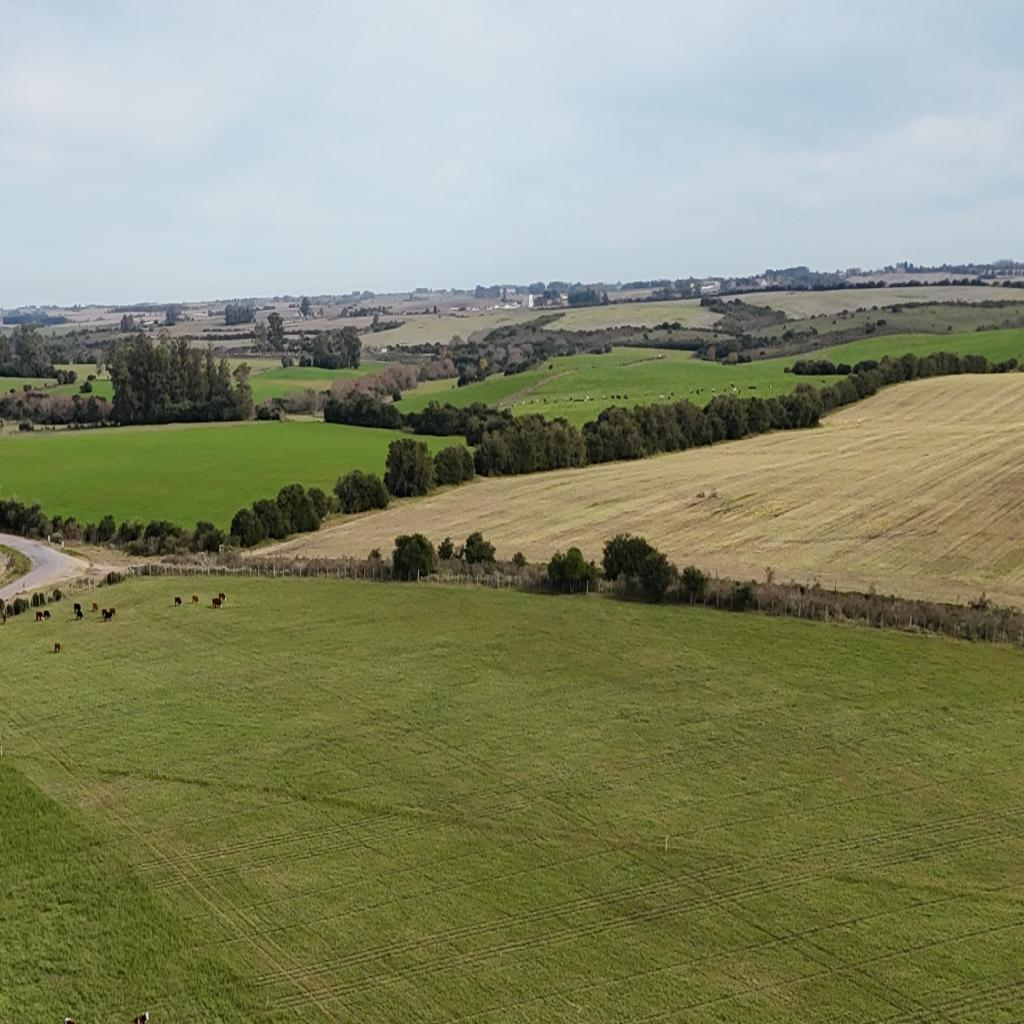cow: (131, 1010, 150, 1024), (102, 608, 114, 622), (74, 603, 83, 621), (212, 597, 223, 610), (62, 1016, 74, 1024), (13, 610, 20, 623), (36, 611, 44, 622), (54, 642, 61, 654), (173, 596, 181, 606), (43, 610, 51, 620), (2, 612, 8, 625), (219, 592, 227, 601), (92, 602, 98, 612), (192, 595, 198, 604)
